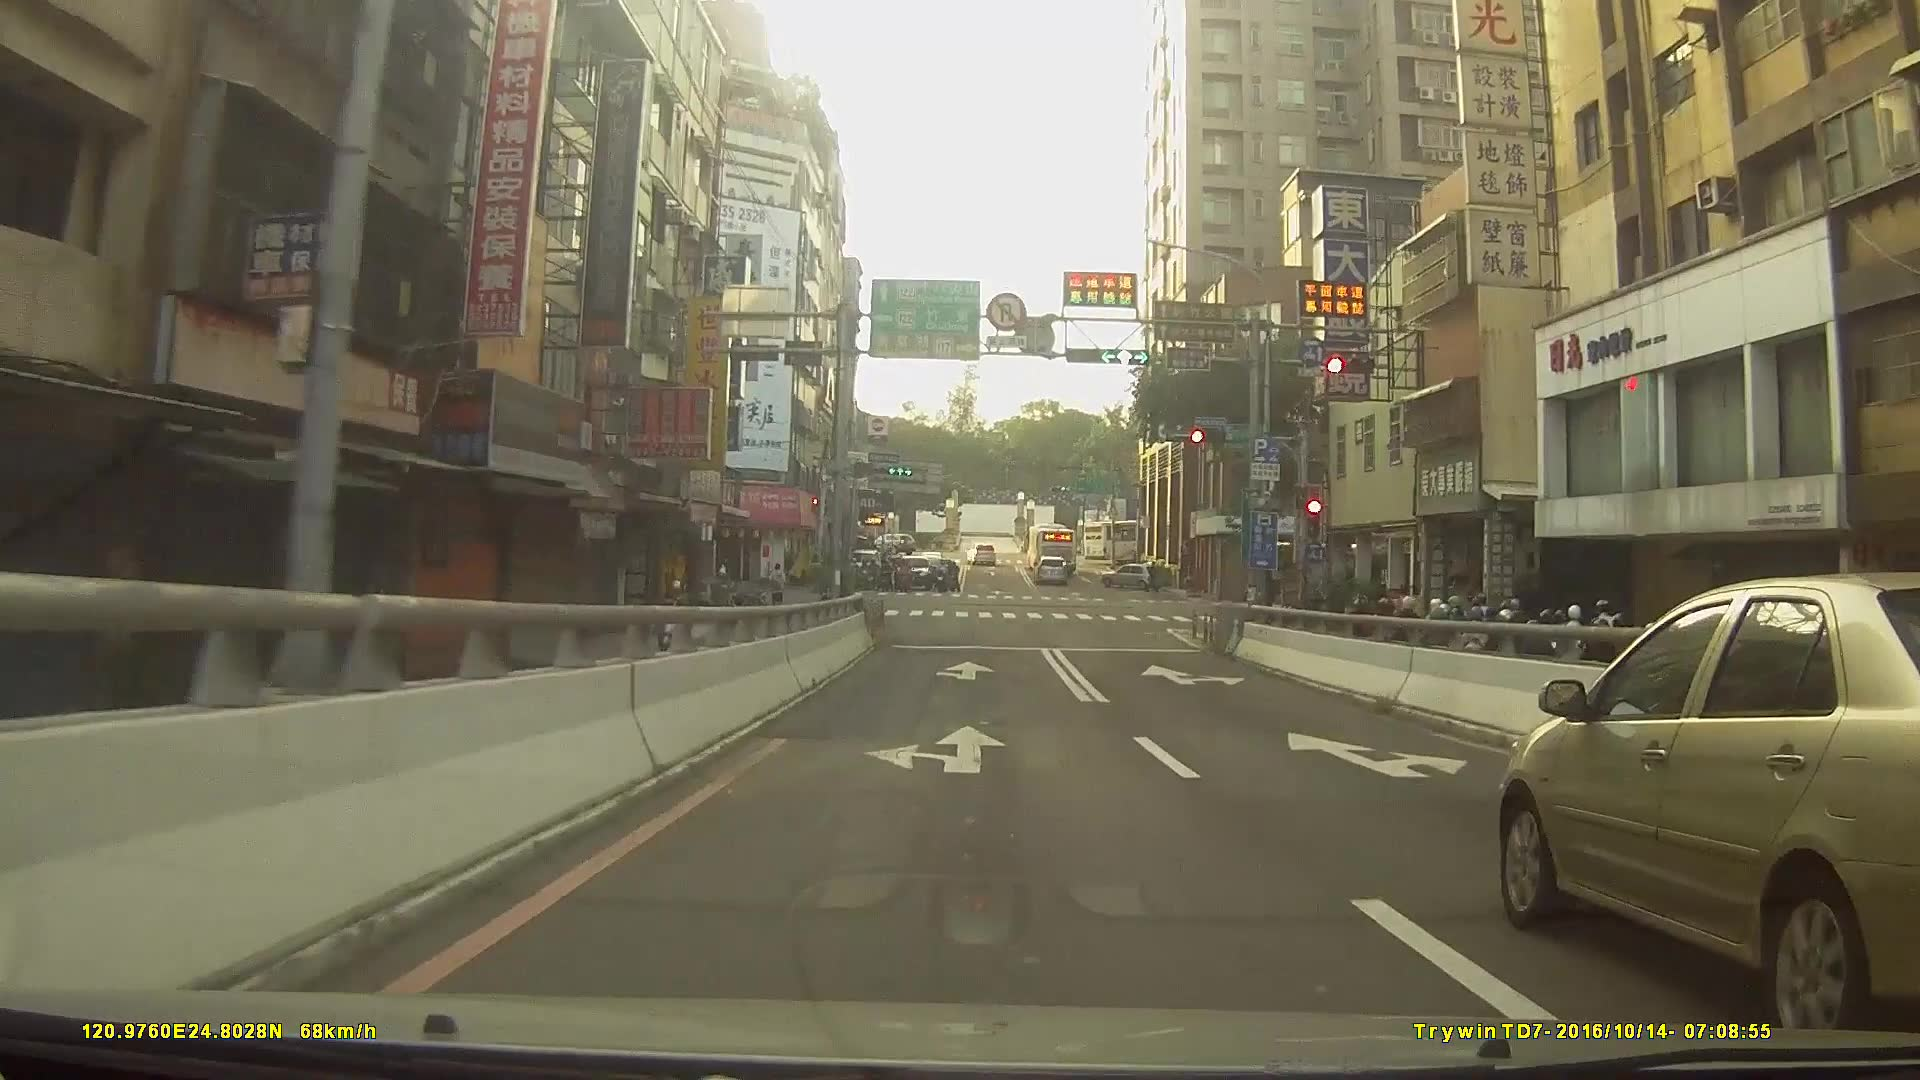rider: (659, 576, 697, 651)
vehicle: (1496, 570, 1920, 1035), (1082, 517, 1168, 564), (1028, 518, 1076, 566), (1097, 559, 1169, 590), (891, 555, 933, 591), (1033, 551, 1069, 581), (870, 529, 916, 552), (965, 539, 996, 563)
